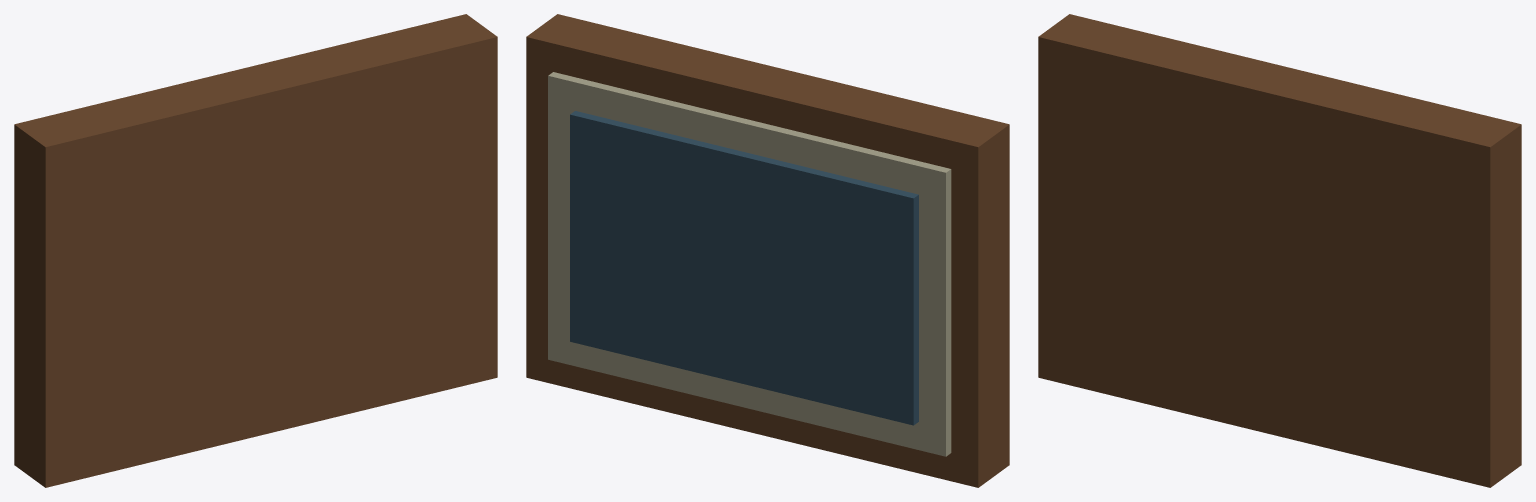
File: picture_frame.glb
3 renders of one model, left to right at view 1: azimuth 30°, elevation 25°; view 2: azimuth 150°, elevation 25°; view 3: azimuth 330°, elevation 25°, orthographic.
Visible parts, largest first — view 1: picture_frame; view 2: picture_frame; view 3: picture_frame.
Boxes of the visible parts, bbox=[...] form: picture_frame: bbox=[14, 14, 497, 487]; picture_frame: bbox=[526, 14, 1009, 487]; picture_frame: bbox=[1038, 14, 1521, 487].
Bounding box in the file's own units: 0.5 × 0.36 × 0.08.
